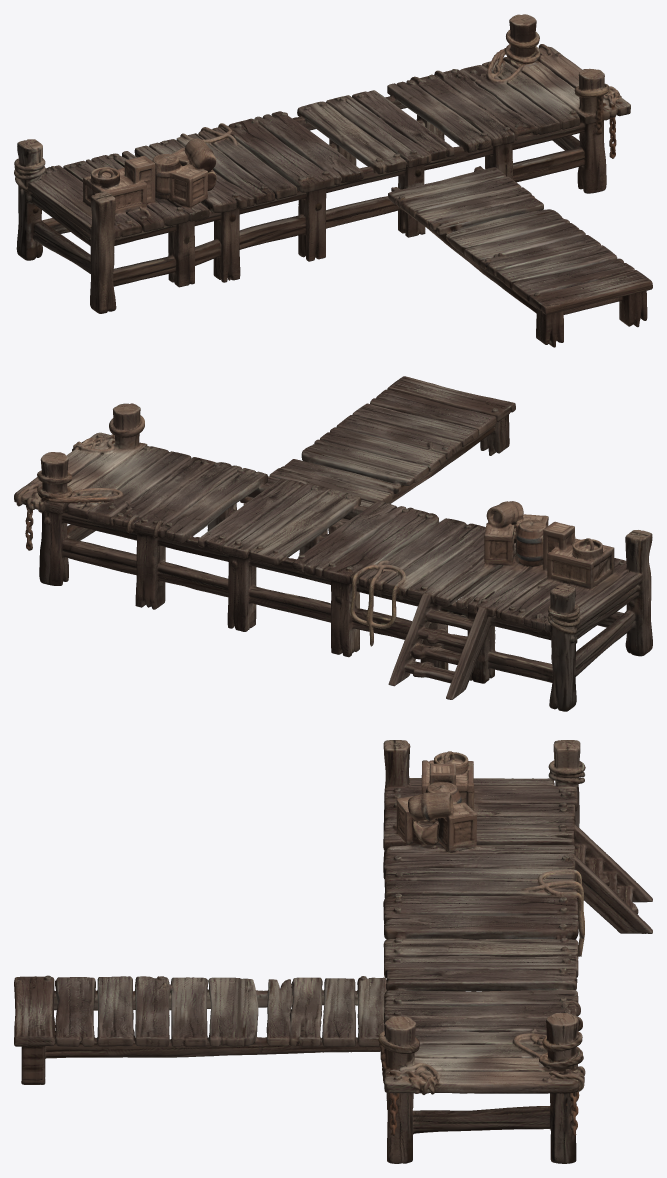
The model's file is steg_original.glb.
3 renders of one model, top to bottom at view 1: azimuth 30°, elevation 25°; view 2: azimuth 150°, elevation 25°; view 3: azimuth 270°, elevation 25°, orthographic. The views are drawn at different scales.
Size of the model in its own units: 1.9 by 0.4236 by 1.64.
1 material, 1 textured.
